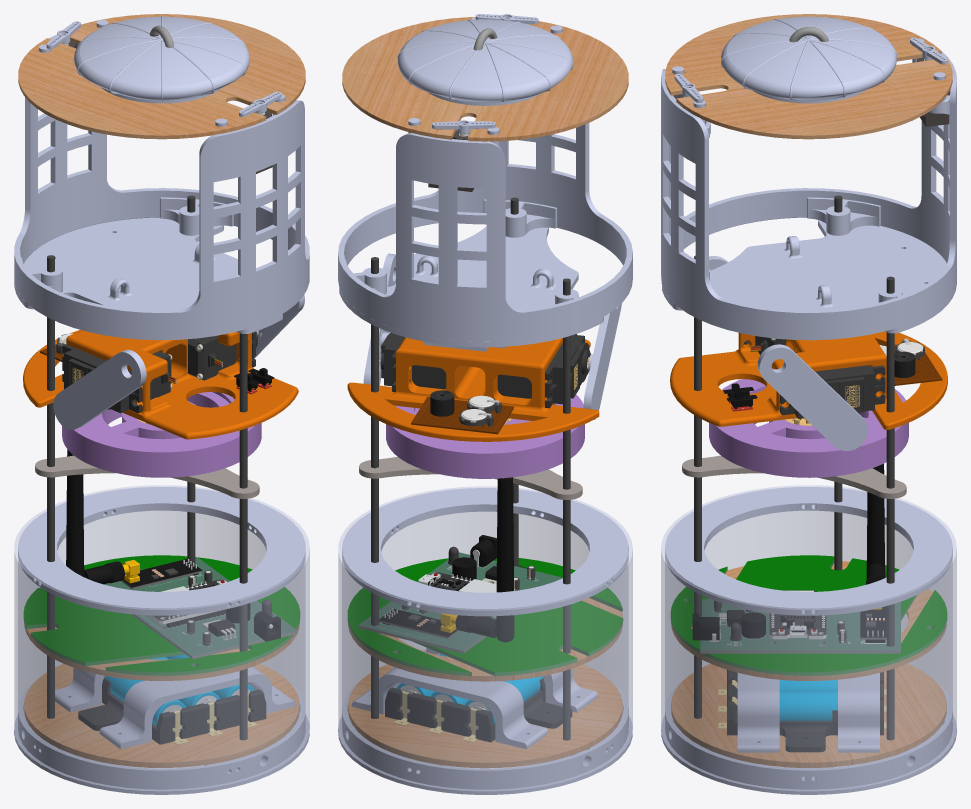
3 views of the same model, side by side, from view 1: azimuth 30°, elevation 25°; view 2: azimuth 150°, elevation 25°; view 3: azimuth 270°, elevation 25° (orthographic).
Parts seen in each view (by area): view 1: plexi-1, pARAGLIDER BAY FINAL 4-RD-1, Parachute Balsa 2025-1, PCB cover-1, Paraglider bay bottom with u-bolt 4rd-1, Parachute_Stowed-1, upper holder-4RD-1, PCB Experimental 2026 CDR-1, antenna sldprt-1, 3MM_PLATE-1, base_plate- 4RD-1, FlywheelSide2-1 (+12 smaller); view 2: plexi-1, pARAGLIDER BAY FINAL 4-RD-1, Parachute Balsa 2025-1, PCB cover-1, upper holder-4RD-1, Parachute_Stowed-1, PCB Experimental 2026 CDR-1, antenna sldprt-1, 3MM_PLATE-1, base_plate- 4RD-1, Paraglider bay bottom with u-bolt 4rd-1, FlywheelSide2-1 (+15 smaller); view 3: plexi-1, pARAGLIDER BAY FINAL 4-RD-1, Parachute Balsa 2025-1, PCB cover-1, Paraglider bay bottom with u-bolt 4rd-1, Parachute_Stowed-1, upper holder-4RD-1, antenna sldprt-1, PCB Experimental 2026 CDR-1, 3MM_PLATE-1, base_plate- 4RD-1, FlywheelSide2-1 (+12 smaller).
Part boxes in pixels (left/top/right/bottom): plexi-1: left=14, top=485, right=309, bottom=790; pARAGLIDER BAY FINAL 4-RD-1: left=14, top=20, right=309, bottom=340; Parachute Balsa 2025-1: left=18, top=14, right=305, bottom=139; PCB cover-1: left=18, top=487, right=305, bottom=615; Paraglider bay bottom with u-bolt 4rd-1: left=14, top=217, right=282, bottom=333; Parachute_Stowed-1: left=74, top=16, right=249, bottom=103; upper holder-4RD-1: left=23, top=330, right=298, bottom=439; PCB Experimental 2026 CDR-1: left=23, top=555, right=300, bottom=675; antenna sldprt-1: left=66, top=449, right=297, bottom=658; 3MM_PLATE-1: left=24, top=663, right=299, bottom=767; base_plate- 4RD-1: left=14, top=682, right=309, bottom=794; FlywheelSide2-1: left=62, top=392, right=261, bottom=477; plexi-1: left=338, top=486, right=632, bottom=790; pARAGLIDER BAY FINAL 4-RD-1: left=338, top=17, right=632, bottom=341; Parachute Balsa 2025-1: left=342, top=17, right=628, bottom=141; PCB cover-1: left=342, top=488, right=628, bottom=616; upper holder-4RD-1: left=347, top=337, right=599, bottom=441; Parachute_Stowed-1: left=397, top=19, right=573, bottom=105; PCB Experimental 2026 CDR-1: left=347, top=558, right=623, bottom=676; antenna sldprt-1: left=358, top=477, right=562, bottom=653; 3MM_PLATE-1: left=348, top=664, right=622, bottom=768; base_plate- 4RD-1: left=338, top=681, right=632, bottom=794; Paraglider bay bottom with u-bolt 4rd-1: left=339, top=226, right=603, bottom=347; FlywheelSide2-1: left=386, top=394, right=584, bottom=478; plexi-1: left=661, top=485, right=956, bottom=790; pARAGLIDER BAY FINAL 4-RD-1: left=661, top=38, right=956, bottom=340; Parachute Balsa 2025-1: left=665, top=14, right=952, bottom=139; PCB cover-1: left=665, top=487, right=952, bottom=615; Paraglider bay bottom with u-bolt 4rd-1: left=662, top=220, right=956, bottom=333; Parachute_Stowed-1: left=721, top=16, right=896, bottom=103; upper holder-4RD-1: left=670, top=331, right=947, bottom=429; antenna sldprt-1: left=692, top=463, right=900, bottom=653; PCB Experimental 2026 CDR-1: left=670, top=555, right=947, bottom=675; 3MM_PLATE-1: left=671, top=664, right=946, bottom=767; base_plate- 4RD-1: left=661, top=681, right=956, bottom=794; FlywheelSide2-1: left=709, top=379, right=908, bottom=477.
Size of the model in its own units: 0.1479 by 0.3892 by 0.148.
Materials: 74 (3 with a texture image).
